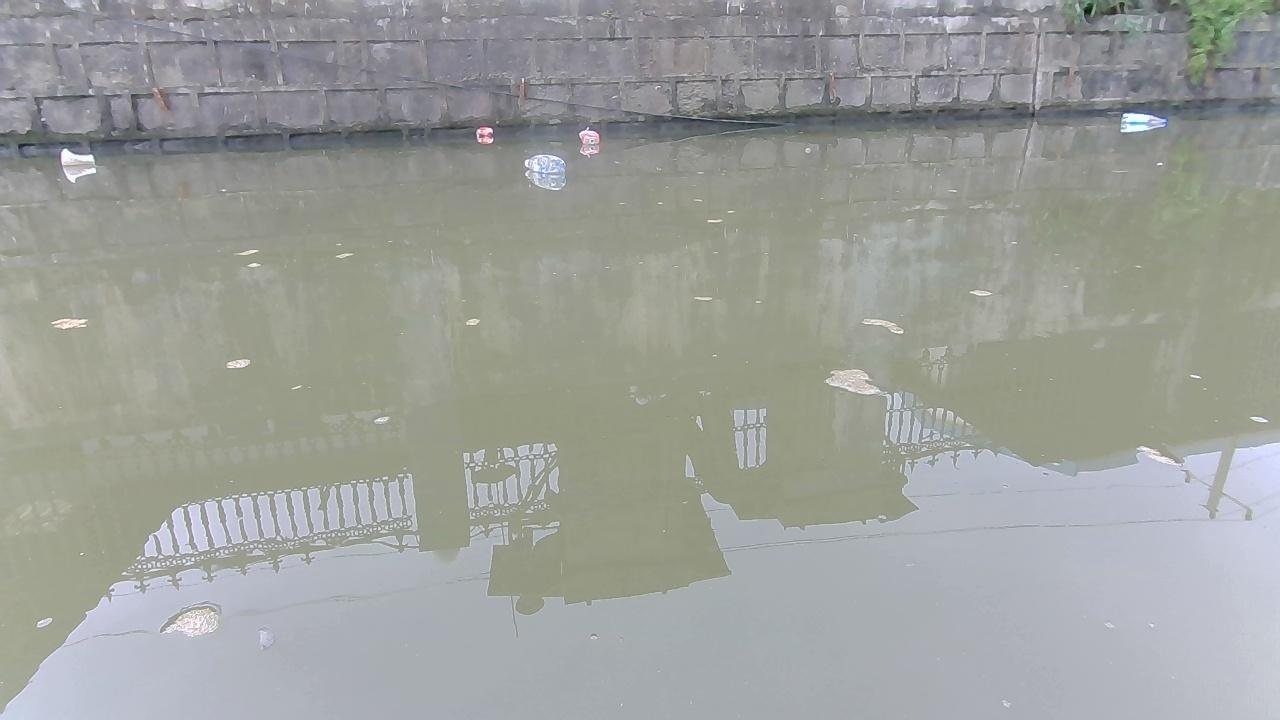bottle: (523, 155, 567, 177), (1121, 112, 1170, 127), (56, 147, 96, 163), (472, 122, 494, 142), (578, 126, 602, 144)
